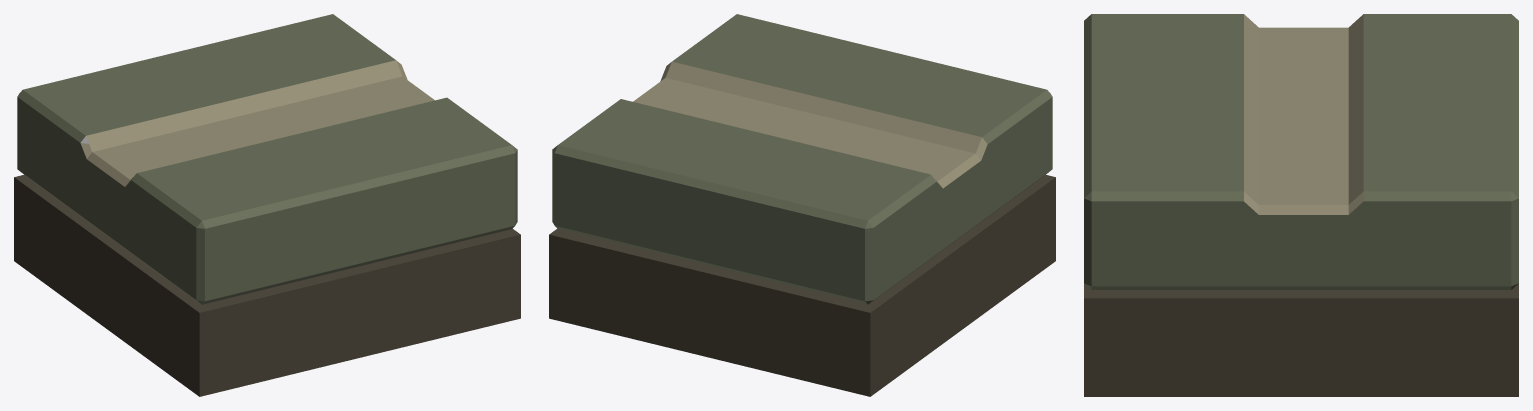
Rendered from Path 1 detailed.fbx.
3 renders of one model, left to right at view 1: azimuth 30°, elevation 25°; view 2: azimuth 150°, elevation 25°; view 3: azimuth 270°, elevation 25°, orthographic. The views are drawn at different scales.
Parts seen in each view (by area): view 1: polySurface3797; view 2: polySurface3797; view 3: polySurface3797.
Part boxes in pixels (x1,y1,x2,y2): polySurface3797: (14,14,520,396); polySurface3797: (549,14,1055,396); polySurface3797: (1084,14,1518,396).
Bounding box in the file's own units: 56.97 × 29.24 × 56.97.
